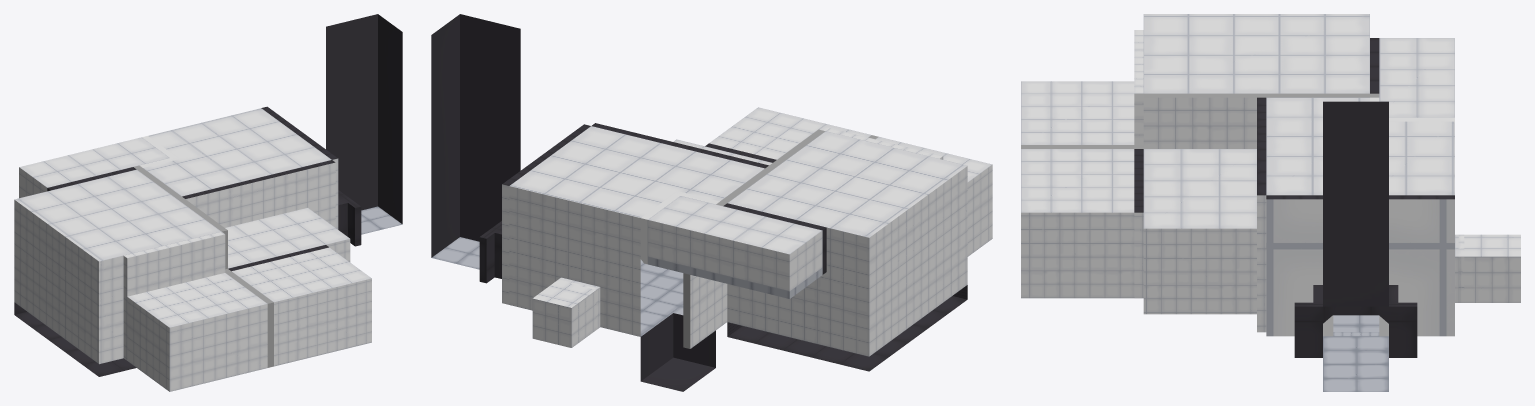
Rendered from Tutorial_v3_Textured.fbx.
3 views of the same model, side by side, from view 1: azimuth 30°, elevation 25°; view 2: azimuth 150°, elevation 25°; view 3: azimuth 270°, elevation 25° (orthographic). The views are drawn at different scales.
Parts seen in each view (by area): view 1: pPlane18, pPlane4, pPlane12, pPlane11, pPlane2, pPlane1, pCube18, pCube4, pPlane10, pPlane9, pPlane8, pPlane13 (+7 smaller); view 2: pPlane4, pPlane18, pPlane12, polySurface4, pPlane11, polySurface3, pPlane7, pPlane13, pPlane8, pCube1, pPlane2, pCube19 (+7 smaller); view 3: pPlane12, pPlane18, pCube19, pPlane11, pPlane3, pPlane1, pPlane10, pCube1, pPlane8, pPlane9, pPlane13, polySurface3 (+5 smaller).
Boxes of the visible parts, left/top/right/bottom form: pPlane18: left=326, top=14, right=402, bottom=234; pPlane4: left=14, top=200, right=136, bottom=376; pPlane12: left=14, top=169, right=221, bottom=261; pPlane11: left=143, top=108, right=331, bottom=196; pPlane2: left=127, top=297, right=267, bottom=391; pPlane1: left=274, top=278, right=371, bottom=366; pCube18: left=182, top=160, right=335, bottom=227; pCube4: left=123, top=231, right=225, bottom=360; pPlane10: left=225, top=208, right=349, bottom=268; pPlane9: left=127, top=273, right=267, bottom=327; pPlane8: left=232, top=247, right=371, bottom=302; pPlane13: left=19, top=137, right=169, bottom=187; pPlane4: left=727, top=166, right=967, bottom=371; pPlane18: left=431, top=14, right=520, bottom=269; pPlane12: left=727, top=131, right=967, bottom=237; polySurface4: left=509, top=186, right=640, bottom=336; pPlane11: left=510, top=126, right=764, bottom=217; polySurface3: left=532, top=259, right=715, bottom=391; pPlane7: left=647, top=220, right=822, bottom=291; pPlane13: left=648, top=196, right=822, bottom=254; pPlane8: left=709, top=107, right=871, bottom=159; pCube1: left=683, top=129, right=878, bottom=348; pPlane2: left=967, top=164, right=992, bottom=256; pCube19: left=502, top=124, right=590, bottom=304; pPlane12: left=1143, top=14, right=1369, bottom=93; pPlane18: left=1323, top=101, right=1388, bottom=391; pCube19: left=1266, top=195, right=1454, bottom=336; pPlane11: left=1266, top=97, right=1454, bottom=195; pPlane3: left=1143, top=228, right=1256, bottom=314; pPlane1: left=1021, top=212, right=1134, bottom=298; pPlane10: left=1143, top=149, right=1256, bottom=228; pCube1: left=1021, top=93, right=1379, bottom=148; pPlane8: left=1021, top=149, right=1134, bottom=212; pPlane9: left=1021, top=81, right=1134, bottom=144; pPlane13: left=1379, top=38, right=1454, bottom=117; polySurface3: left=1333, top=234, right=1520, bottom=332.
Bounding box in the file's own units: 6050 × 3600 × 5300.
7 materials, 5 textured.
